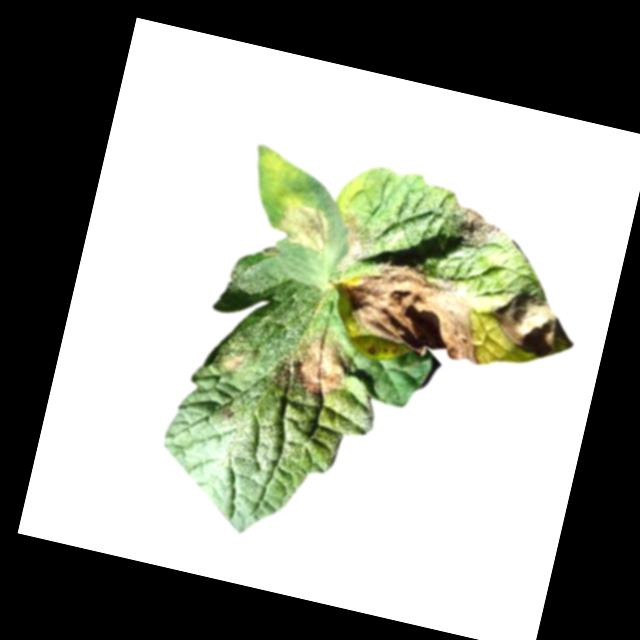Late_blight: (328, 252, 497, 364), (485, 283, 581, 364), (272, 325, 355, 409), (275, 198, 336, 258), (443, 199, 504, 251), (331, 208, 376, 278), (217, 345, 249, 377)
